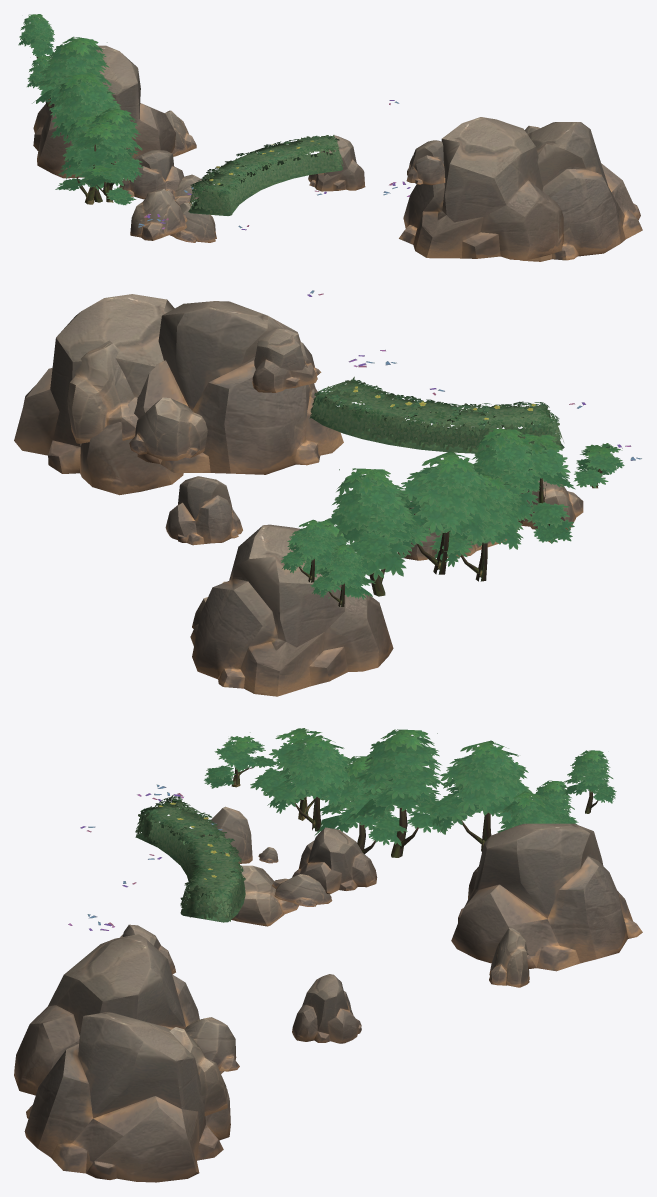
File: pref_sm_4v4pointbake_CSD_L03_lv2.fbx
3 renders of one model, top to bottom at view 1: azimuth 30°, elevation 25°; view 2: azimuth 150°, elevation 25°; view 3: azimuth 270°, elevation 25°, orthographic. The views are drawn at different scales.
Parts seen in each view (by area): view 1: sm_4v4pointbake_CSD_L03_b_lv2, sm_4v4pointbake_CSD_L03_c_lv2; view 2: sm_4v4pointbake_CSD_L03_b_lv2, sm_4v4pointbake_CSD_L03_c_lv2; view 3: sm_4v4pointbake_CSD_L03_b_lv2, sm_4v4pointbake_CSD_L03_c_lv2.
Part boxes in pixels (bbox=[...]): sm_4v4pointbake_CSD_L03_b_lv2: bbox=[33, 45, 642, 261]; sm_4v4pointbake_CSD_L03_c_lv2: bbox=[18, 14, 343, 215]; sm_4v4pointbake_CSD_L03_b_lv2: bbox=[14, 294, 583, 696]; sm_4v4pointbake_CSD_L03_c_lv2: bbox=[280, 376, 624, 606]; sm_4v4pointbake_CSD_L03_b_lv2: bbox=[14, 806, 642, 1182]; sm_4v4pointbake_CSD_L03_c_lv2: bbox=[135, 728, 616, 922].
Size of the model in its own units: 28.12 by 8.98 by 24.94.
